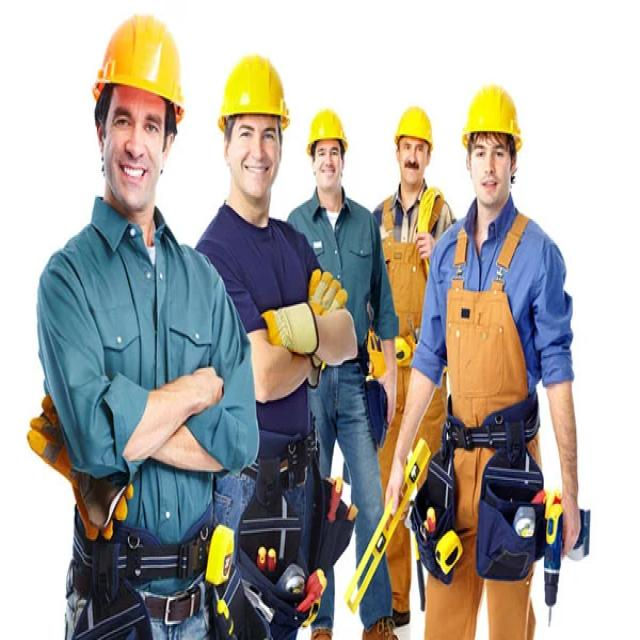Gloves: (26, 392, 138, 545), (260, 258, 347, 395)
Hard Hat: (89, 6, 192, 124), (216, 49, 296, 139), (458, 80, 528, 158), (306, 104, 352, 159), (390, 101, 438, 152)
